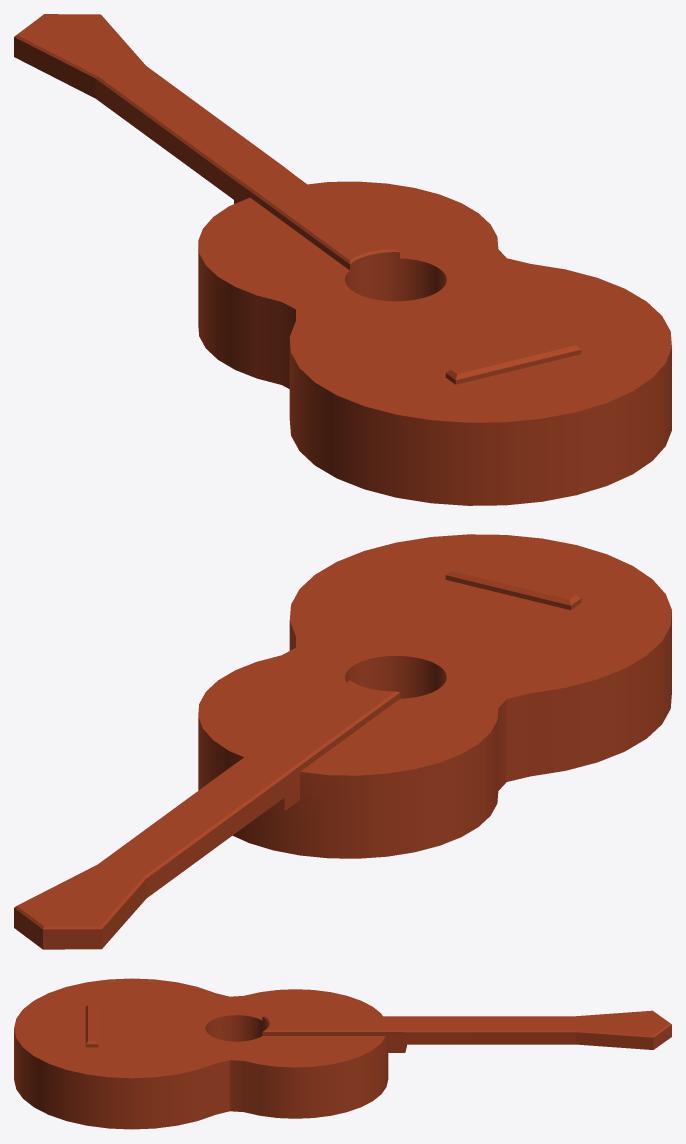
The model's file is Guitarra.fbx.
3 views of the same model, one above another, from view 1: azimuth 30°, elevation 25°; view 2: azimuth 150°, elevation 25°; view 3: azimuth 270°, elevation 25° (orthographic). The views are drawn at different scales.
Visible parts, largest first — view 1: Guitarra; view 2: Guitarra; view 3: Guitarra.
Part boxes in pixels (box(x1,y1,x2,y2)): Guitarra: box(14, 14, 671, 505); Guitarra: box(14, 534, 671, 949); Guitarra: box(14, 978, 671, 1129).
Bounding box in the file's own units: 125 × 33 × 349.
